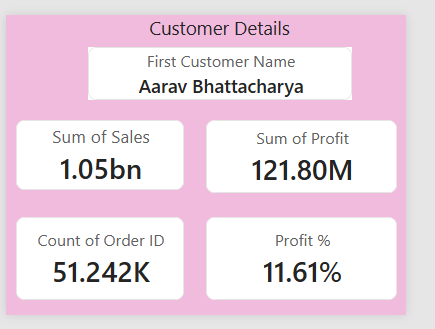

What the dashboard file says about the page in this screenshot:
{"tool":"powerbi","page":{"name":"Customer Tooltip","canvas":[400,300],"ordinal":6},"visuals":[{"type":"cardVisual","fields":{"Data":["Min(Orders.Customer Name)"]},"box":[82,32,264,53],"z":0},{"type":"cardVisual","fields":{"Data":["Sum(Orders.Sales)"]},"box":[10,105,168,70],"z":1000},{"type":"cardVisual","fields":{"Data":["Sum(Orders.Profit)"]},"box":[200,105,191,73],"z":2000},{"type":"cardVisual","fields":{"Data":["Count(Orders.Order ID)"]},"box":[10,202,168,83],"z":3000},{"type":"cardVisual","fields":{"Data":["Orders.Profit %"]},"box":[200,202,191,83],"z":4000},{"type":"textbox","box":[58,0,311,32],"z":5000}]}

Visuals, with their boxes in screenshot pixels (x1, y1, x2, y2), scaled from the page's 400x300 canvas onto the 435x329 screenshot:
cardVisual - Min(Orders.Customer Name): 89,35,376,93
cardVisual - Sum(Orders.Sales): 11,115,194,192
cardVisual - Sum(Orders.Profit): 217,115,425,195
cardVisual - Count(Orders.Order ID): 11,222,194,313
cardVisual - Orders.Profit %: 217,222,425,313
textbox: 63,0,401,35
